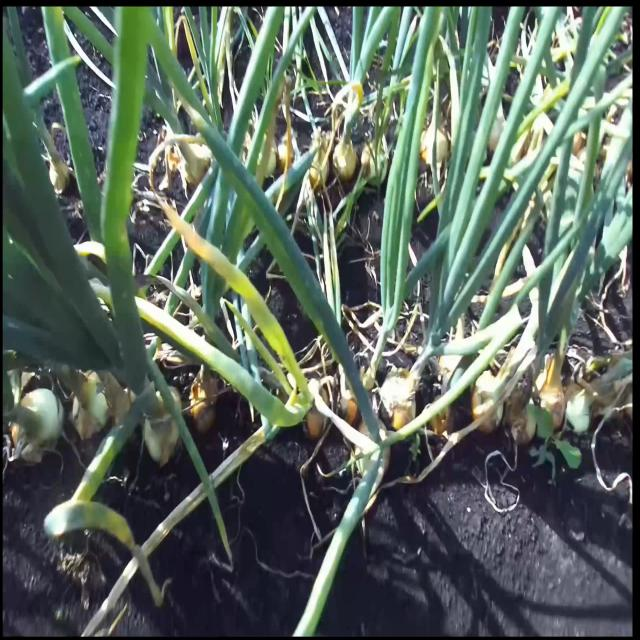onion: (11, 393, 62, 465), (139, 388, 183, 464), (70, 371, 109, 434), (382, 374, 418, 435), (508, 386, 538, 447), (473, 370, 502, 432), (109, 380, 137, 439), (179, 142, 212, 190), (188, 378, 217, 430), (298, 388, 328, 438), (540, 377, 568, 428), (568, 385, 596, 436), (362, 140, 386, 190), (421, 124, 447, 170), (430, 388, 453, 438), (334, 138, 358, 183), (306, 147, 328, 189), (337, 388, 359, 426)
